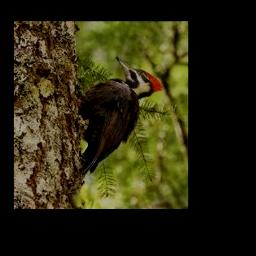Woodpecker: (78, 56, 162, 176)
